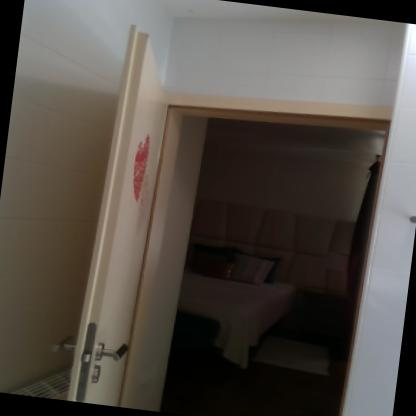open: (75, 21, 393, 415)
